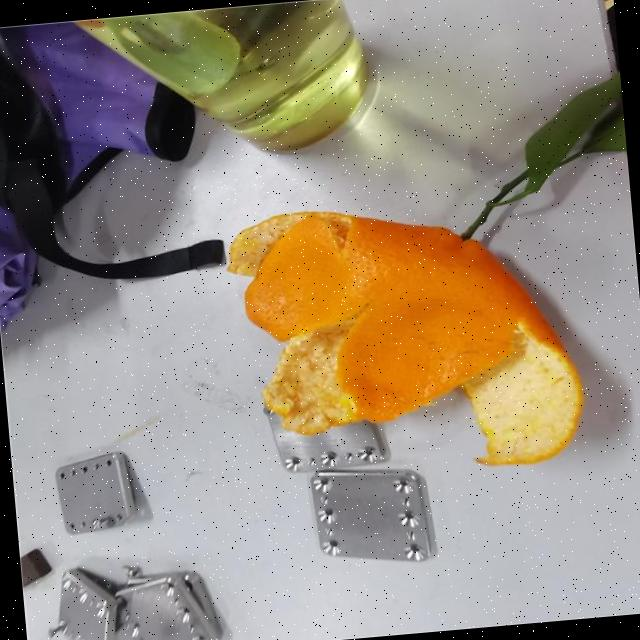orange-peel: (222, 185, 590, 488)
